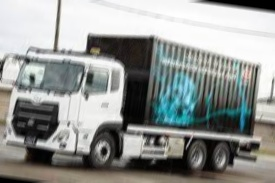truck: (0, 15, 264, 183)
